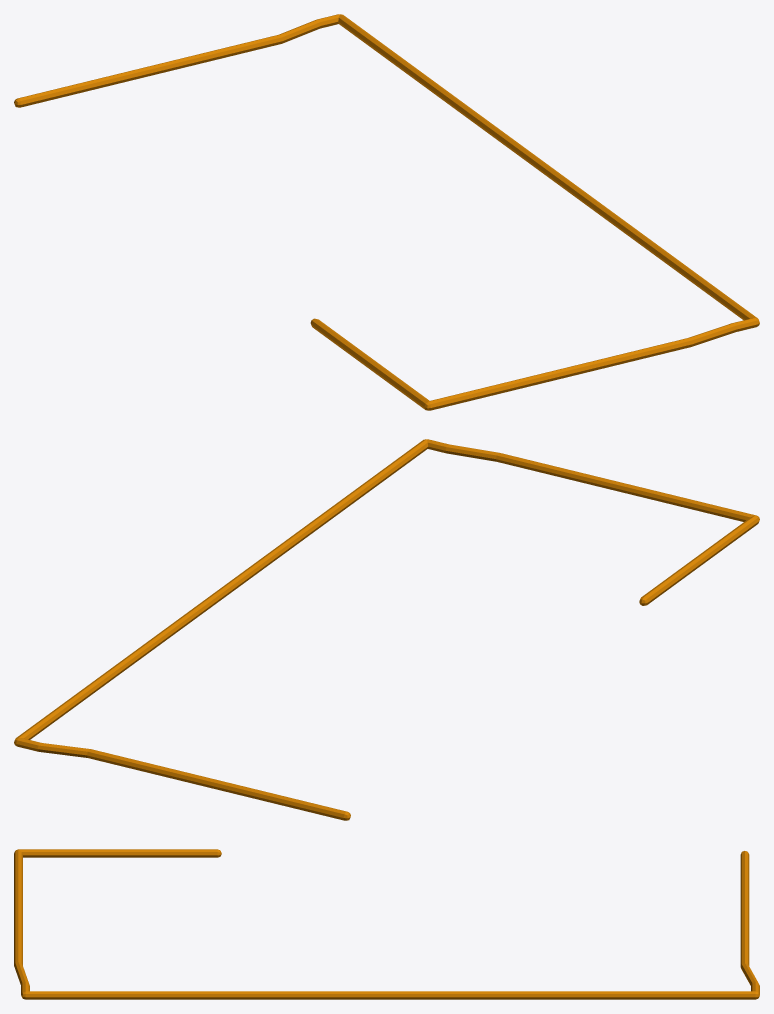
The picture shows the model from 3 angles, top to bottom: view 1: azimuth 30°, elevation 25°; view 2: azimuth 150°, elevation 25°; view 3: azimuth 270°, elevation 25°; orthographic projection. The views are drawn at different scales.
Size of the model in its own units: 779 by 20 by 1686.
